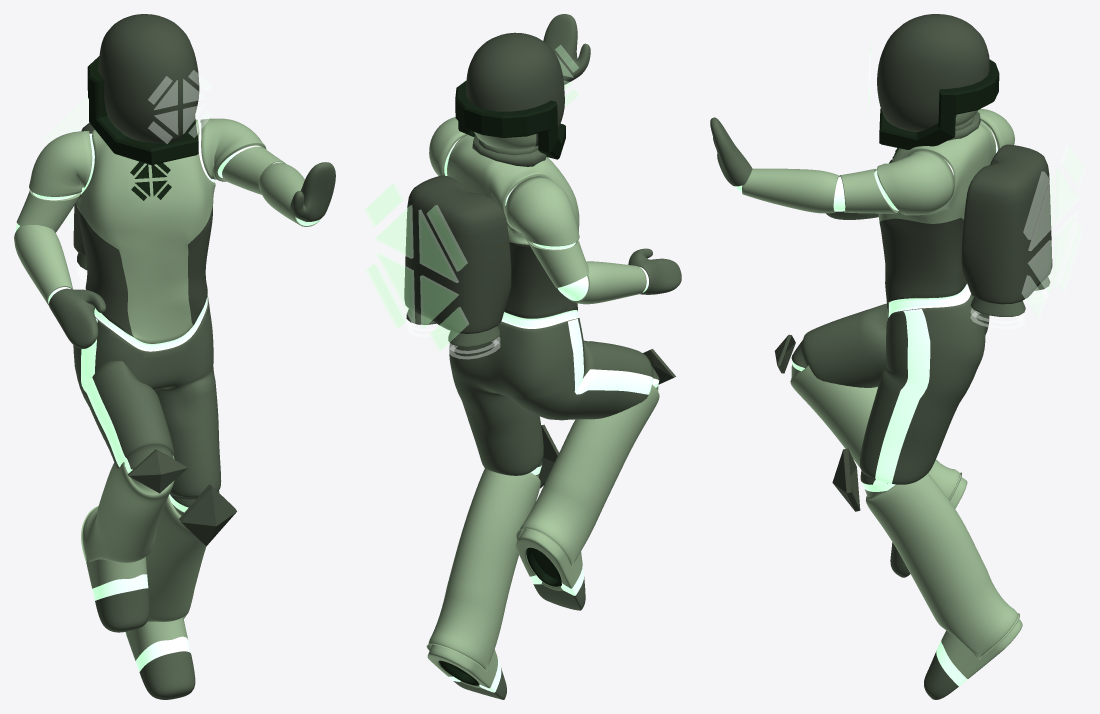
File: PlayerModel_ShootingPose.fbx
The picture shows the model from 3 angles, left to right: view 1: azimuth 30°, elevation 25°; view 2: azimuth 150°, elevation 25°; view 3: azimuth 270°, elevation 25°; orthographic projection. The views are drawn at different scales.
Parts seen in each view (by area): view 1: Player_Body, Helmet, JetPack; view 2: Player_Body, JetPack, Helmet; view 3: Player_Body, JetPack, Helmet.
Part boxes in pixels (x1,y1,x2,y2): Player_Body: (14, 118, 335, 699); Helmet: (87, 14, 212, 165); JetPack: (43, 94, 199, 282); Player_Body: (426, 14, 681, 699); JetPack: (364, 175, 511, 359); Helmet: (455, 32, 579, 159); Player_Body: (710, 109, 1022, 699); JetPack: (961, 144, 1085, 328); Helmet: (868, 14, 999, 149).
Bounding box in the file's own units: 82.58 × 236 × 121.
